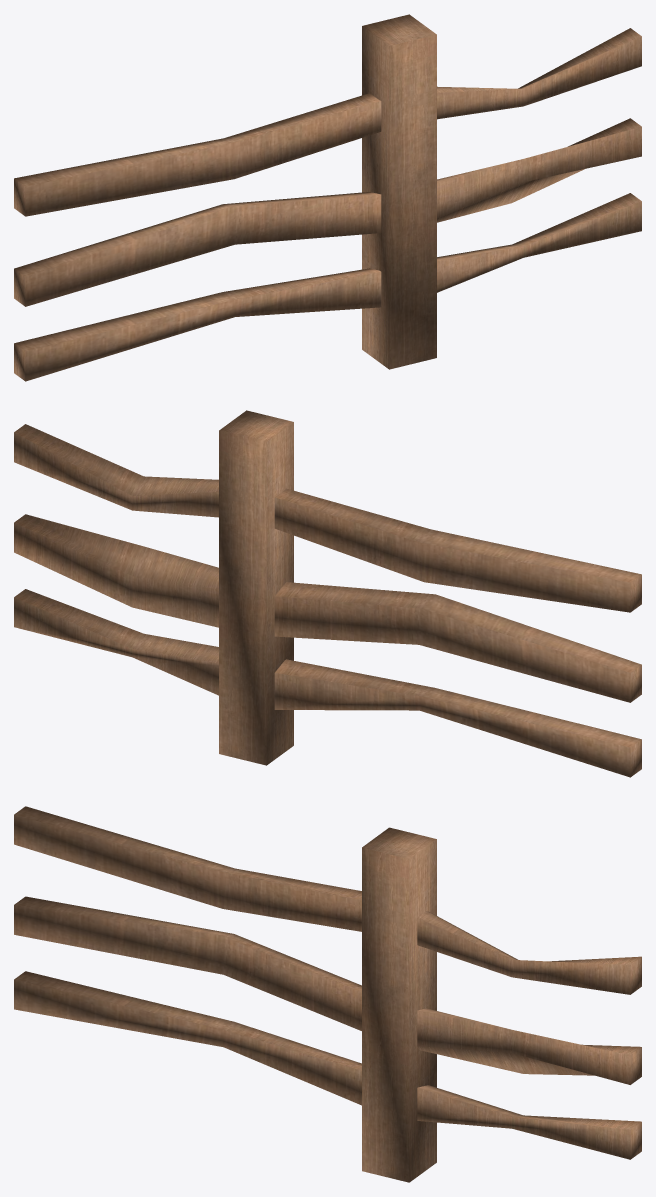
3 renders of one model, top to bottom at view 1: azimuth 30°, elevation 25°; view 2: azimuth 150°, elevation 25°; view 3: azimuth 330°, elevation 25°, orthographic.
Parts seen in each view (by area): view 1: Cube165_Wood_02001_0; view 2: Cube165_Wood_02001_0; view 3: Cube165_Wood_02001_0.
Part boxes in pixels (bbox=[...]): Cube165_Wood_02001_0: bbox=[14, 14, 641, 381]; Cube165_Wood_02001_0: bbox=[14, 410, 641, 777]; Cube165_Wood_02001_0: bbox=[14, 806, 641, 1182].
Bounding box in the file's own units: 2.59 × 1.3 × 0.2.
Materials: 1 (1 with a texture image).
